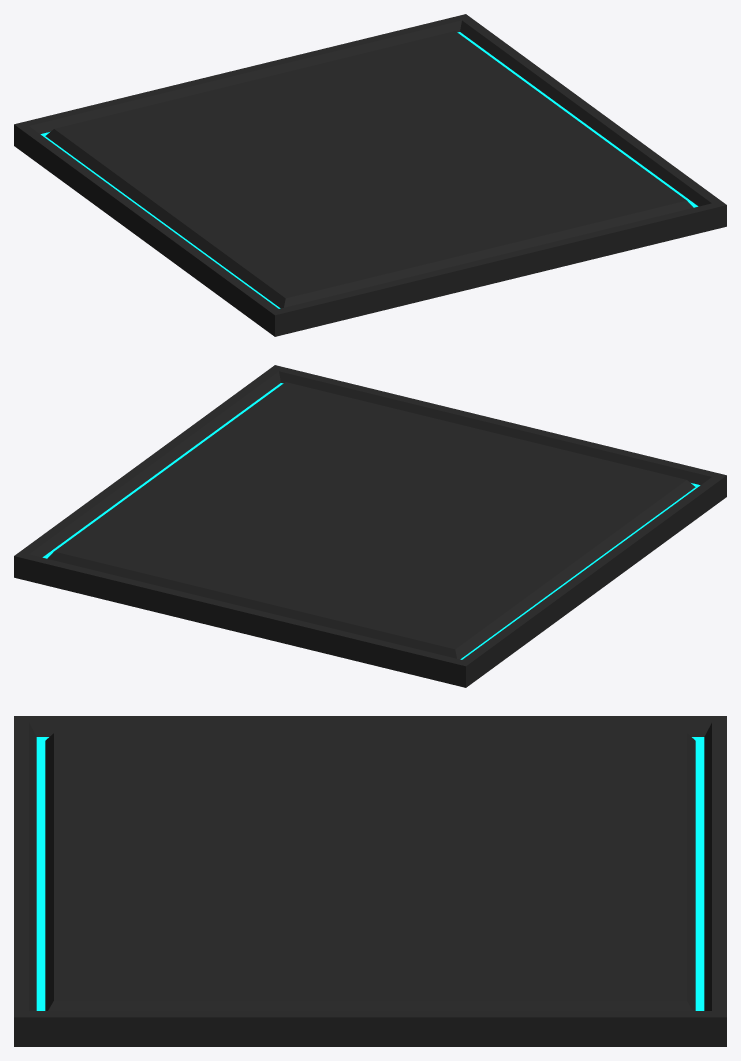
File: square_floor1.fbx
The picture shows the model from 3 angles, top to bottom: view 1: azimuth 30°, elevation 25°; view 2: azimuth 150°, elevation 25°; view 3: azimuth 270°, elevation 25°; orthographic projection. The views are drawn at different scales.
Visible parts, largest first — view 1: Cube; view 2: Cube; view 3: Cube.
Part boxes in pixels (bbox=[...]): Cube: bbox=[14, 14, 726, 336]; Cube: bbox=[14, 365, 726, 687]; Cube: bbox=[14, 716, 726, 1046].
Size of the model in its own units: 801 by 36.61 by 801.
